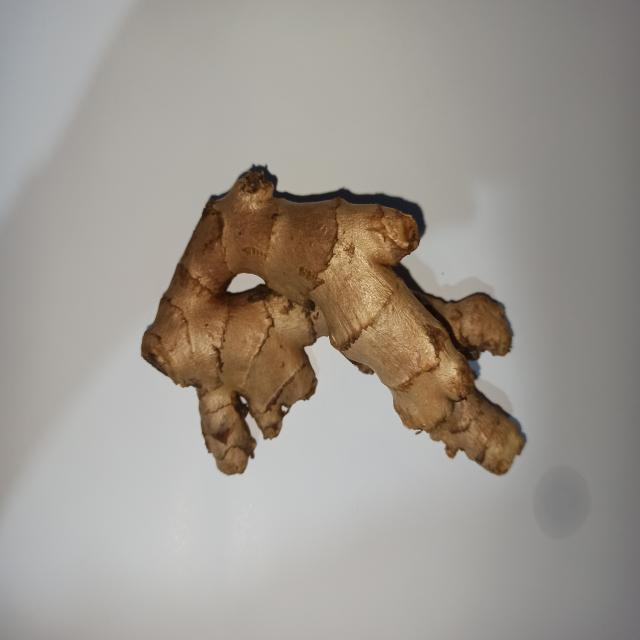ginger: (142, 175, 523, 469)
